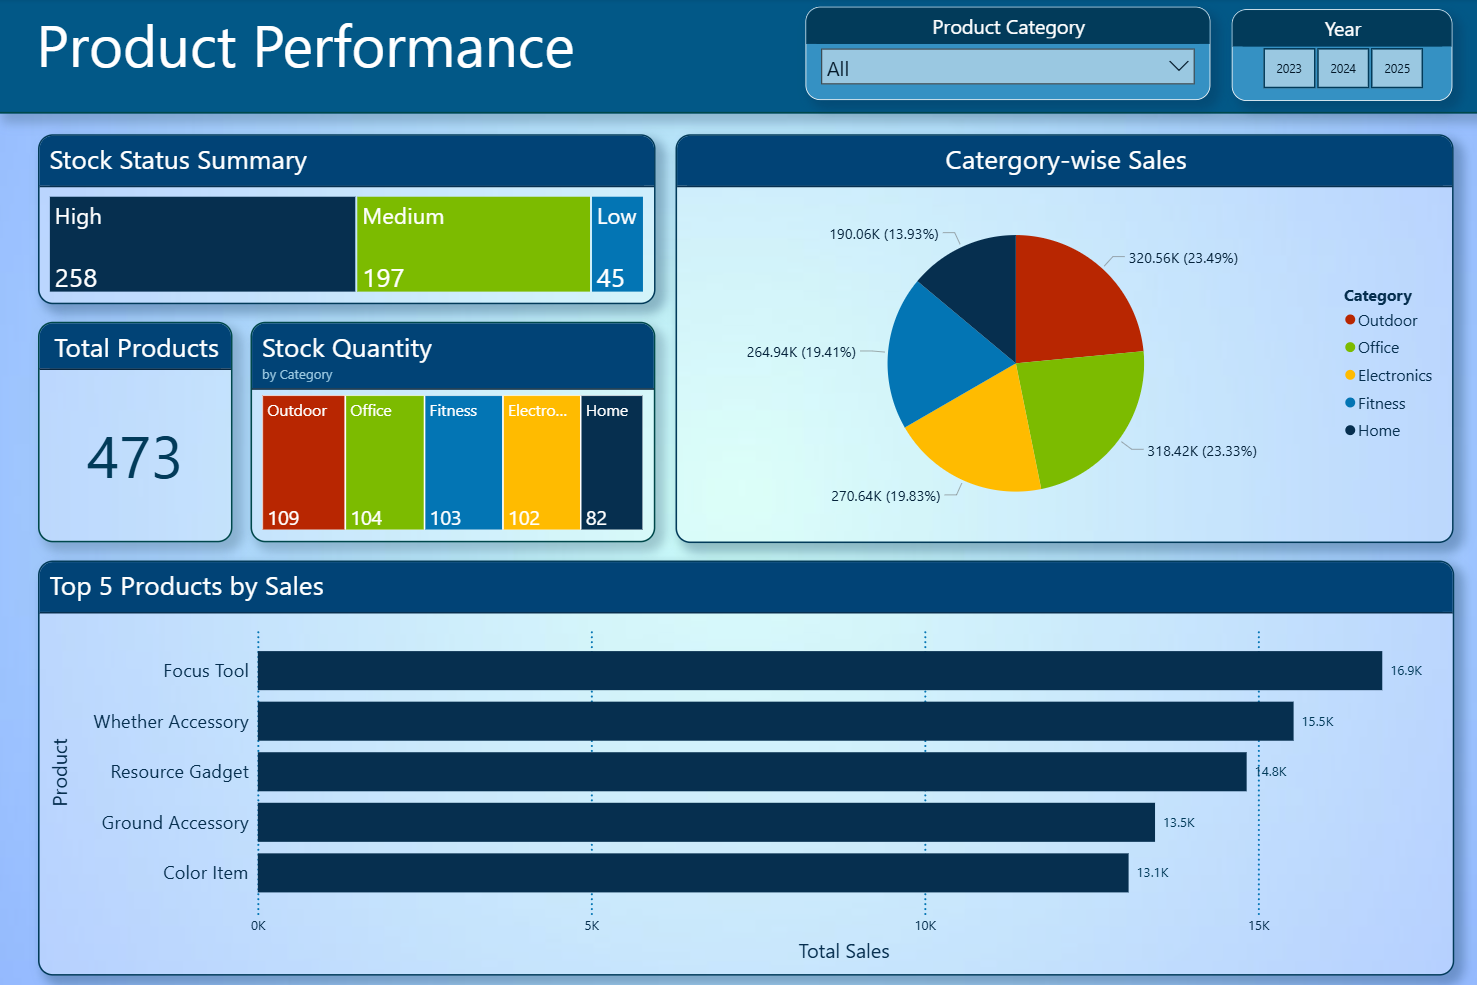

The page's visual inventory and layout, read from the dashboard file:
{"tool":"powerbi","page":{"name":"Product Performance","canvas":[1500,1000],"ordinal":1},"visuals":[{"type":"barChart","title":"Top 5 Products by Sales","fields":{"Category":["Products.Product"],"Y":["Sales&Customers.TotalSalesAmount"]},"box":[40.4,569.5,1432.4,420],"z":0},{"type":"pieChart","title":"Catergory-wise Sales","fields":{"Category":["Products.Category"],"Y":["Sales&Customers.TotalSalesAmount"]},"box":[685.2,137.3,787.6,413.3],"z":1000},{"type":"treemap","title":"Stock Status Summary","fields":{"Group":["Products.StockStatus"],"Values":["CountNonNull(Products.StockStatus)"]},"box":[40.4,137.3,624.7,172.3],"z":2000},{"type":"card","title":"Total Products","fields":{"Values":["Count(Products.Product)"]},"box":[40.4,327.1,196.6,223.5],"z":3000},{"type":"slicer","fields":{"Values":["Products.Category","Products.Product"]},"box":[953.4,14.6,300.2,43.9],"z":4000},{"type":"textbox","title":"Sales Overview","box":[0,0,1499.7,117.2],"z":5000},{"type":"slicer","title":"Product Category","fields":{"Values":["Products.Category"]},"box":[817.1,9.4,409.3,94.5],"z":6000},{"type":"slicer","title":"Year","fields":{"Values":["Sales.SaleYear"]},"box":[1248.4,11,223.6,92.9],"z":7000},{"type":"treemap","title":"Stock Quantity","fields":{"Group":["Products.Category"],"Values":["CountNonNull(Products.Stock)"]},"box":[255.8,327.1,409.3,223.5],"z":8000}]}

Visuals, with their boxes in screenshot pixels (x1, y1, x2, y2), scaled from the page's 1500x1000 canvas onto the 1477x985 screenshot:
"Top 5 Products by Sales" barChart: [40,561,1450,975]
"Catergory-wise Sales" pieChart: [675,135,1450,542]
"Stock Status Summary" treemap: [40,135,655,305]
"Total Products" card: [40,322,233,542]
slicer - Products.Category x Products.Product: [939,14,1234,58]
"Sales Overview" textbox: [0,0,1476,115]
"Product Category" slicer: [805,9,1208,102]
"Year" slicer: [1229,11,1449,102]
"Stock Quantity" treemap: [252,322,655,542]
